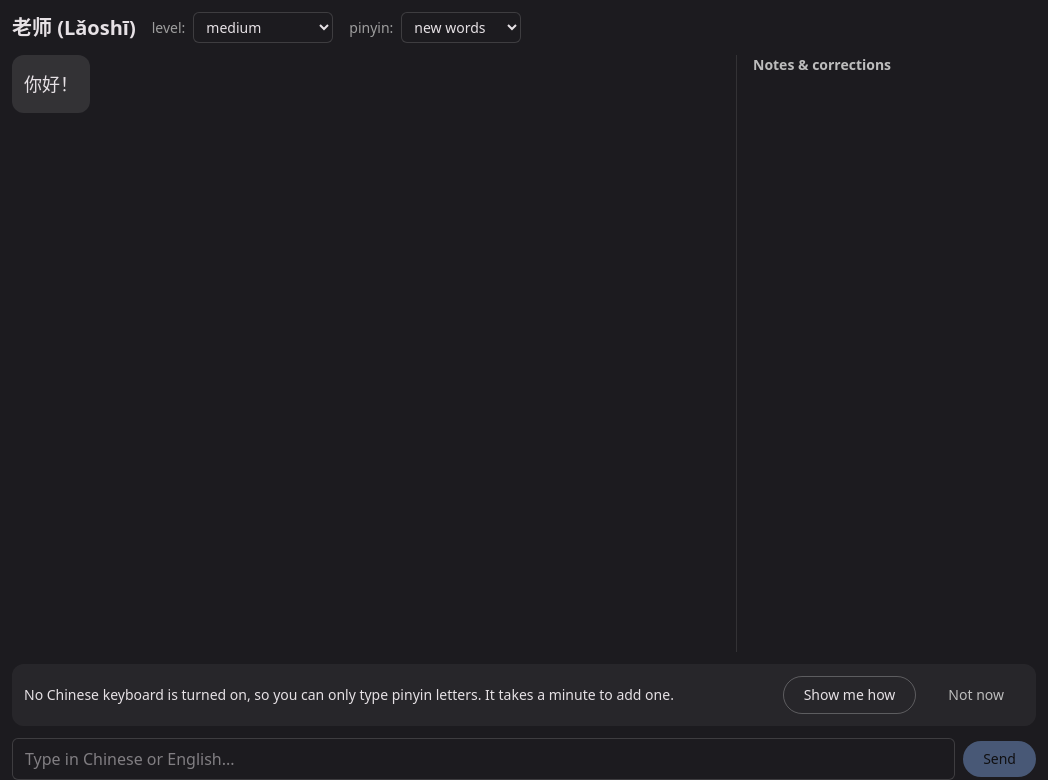
Test: Chat › offers keyboard setup when no Chinese keyboard is turned on
Expected: the text "No Chinese keyboard is turned on" is shown, [24,685,674,704]
Click the button "Show me how" at (850, 695), box [783,676,916,714]
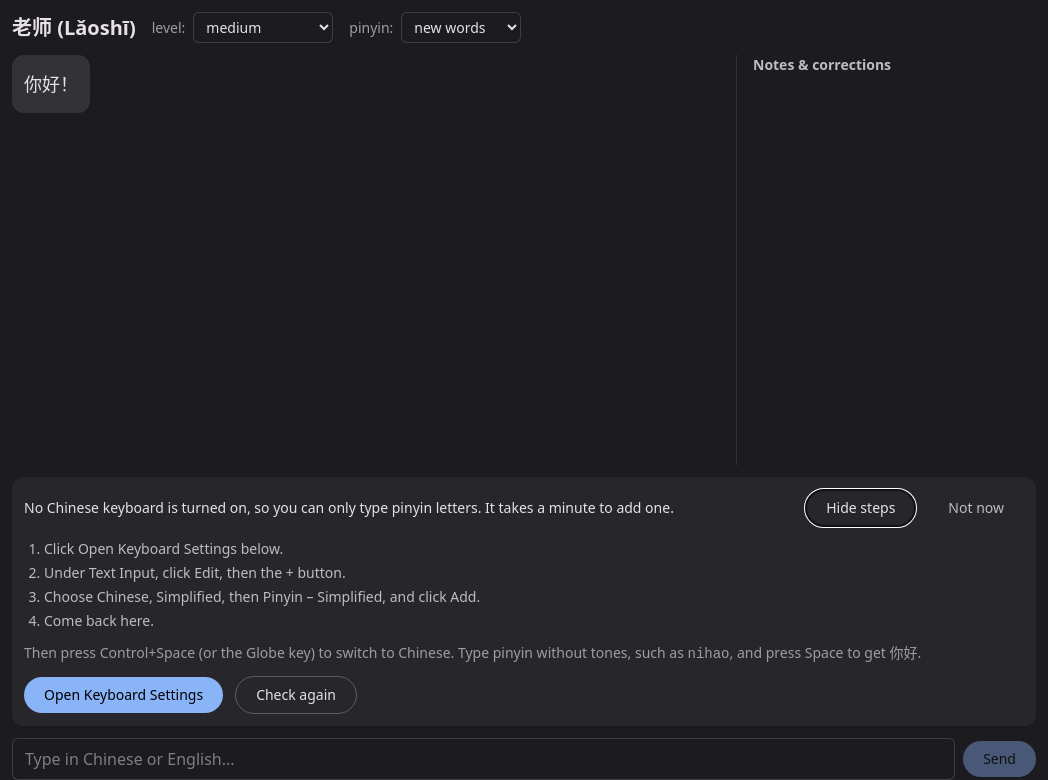
Expected: the list item "Pinyin – Simplified" is shown, [44,587,480,606]
Click the button "Open Keyboard Settings" at (124, 695), box [24,677,223,713]
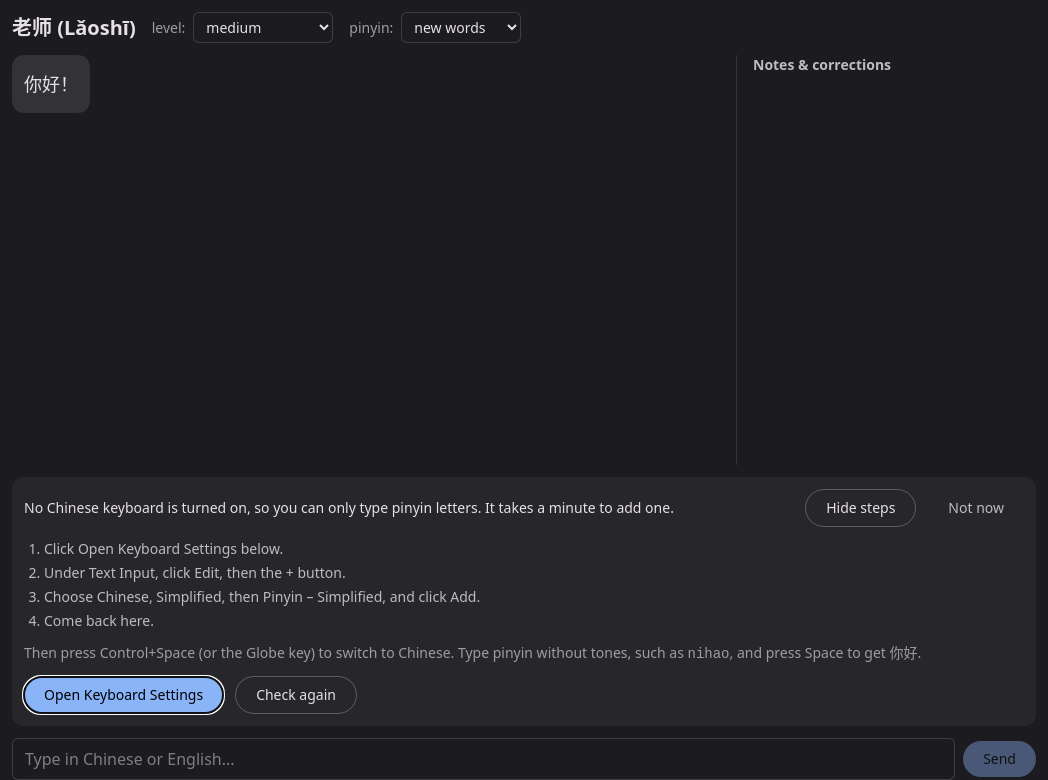
Click the button "Not now" at (976, 508), box [928,490,1024,526]
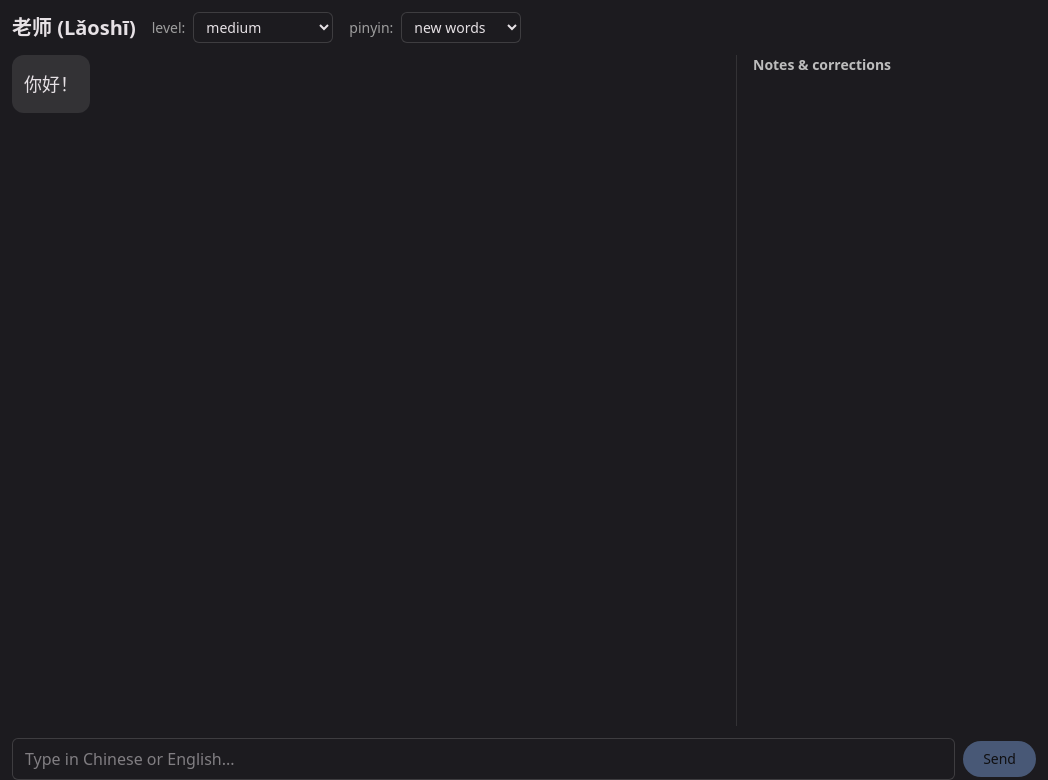
Expected: the text "No Chinese keyboard is turned on" is gone
